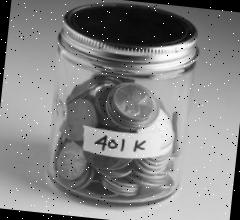glass: (41, 0, 203, 212)
